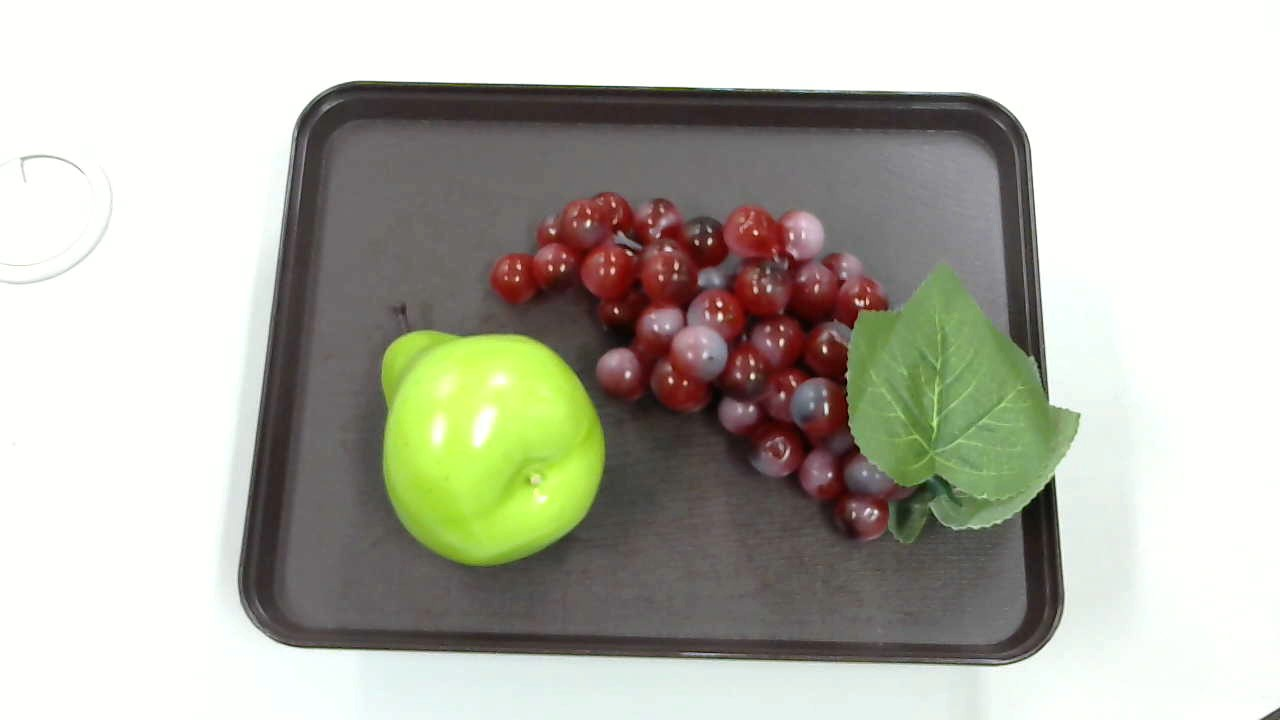grape: (493, 163, 1081, 556)
green pear: (368, 296, 605, 568)
